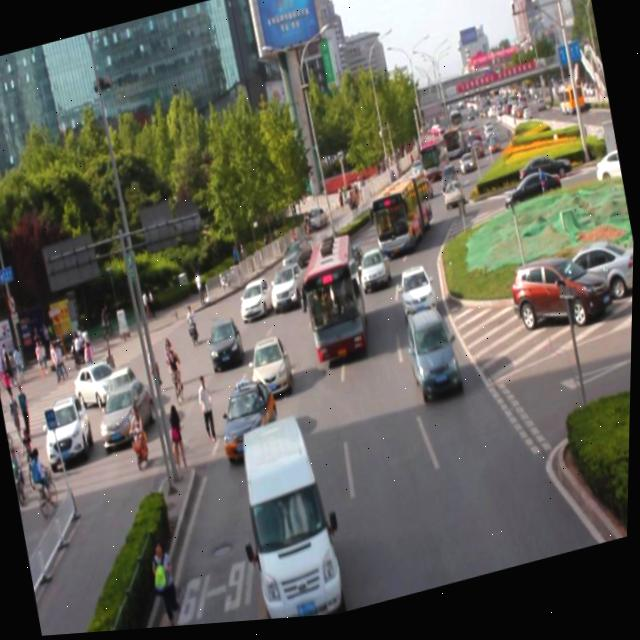car: (216, 378, 286, 465), (403, 310, 463, 410), (247, 335, 296, 405), (398, 268, 441, 332), (266, 263, 308, 314), (207, 320, 246, 374), (237, 279, 277, 328), (356, 251, 394, 300), (331, 248, 369, 295)
truck: (232, 415, 350, 626)
van: (296, 236, 374, 369), (367, 175, 439, 264)
